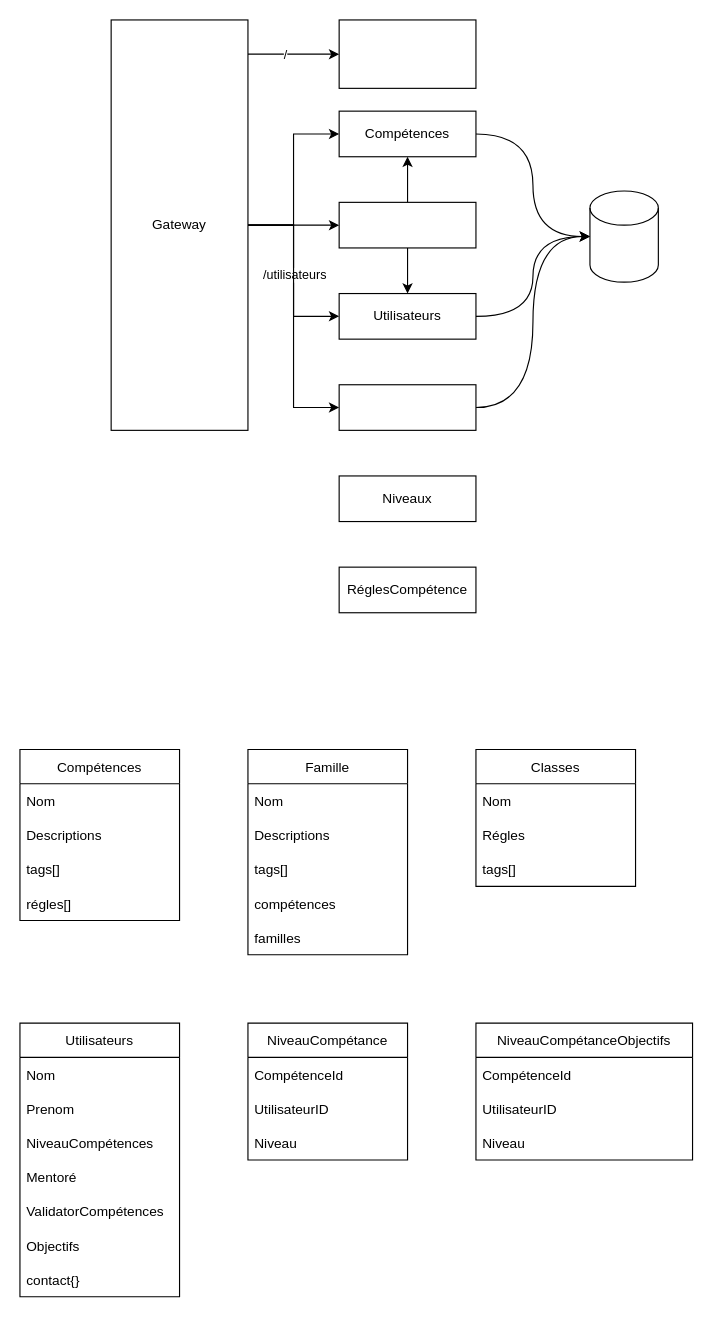
The diagram is 713 pixels wide and 1317 high, and some of its shapes have lost their labels. The centre of each missing label's shape, as x and y in pixels:
"Evolutions" belongs at [407,407].
"MongoDB" belongs at [623,236].
"Nginx Front React" belongs at [407,53].
"recherche" belongs at [407,224].
